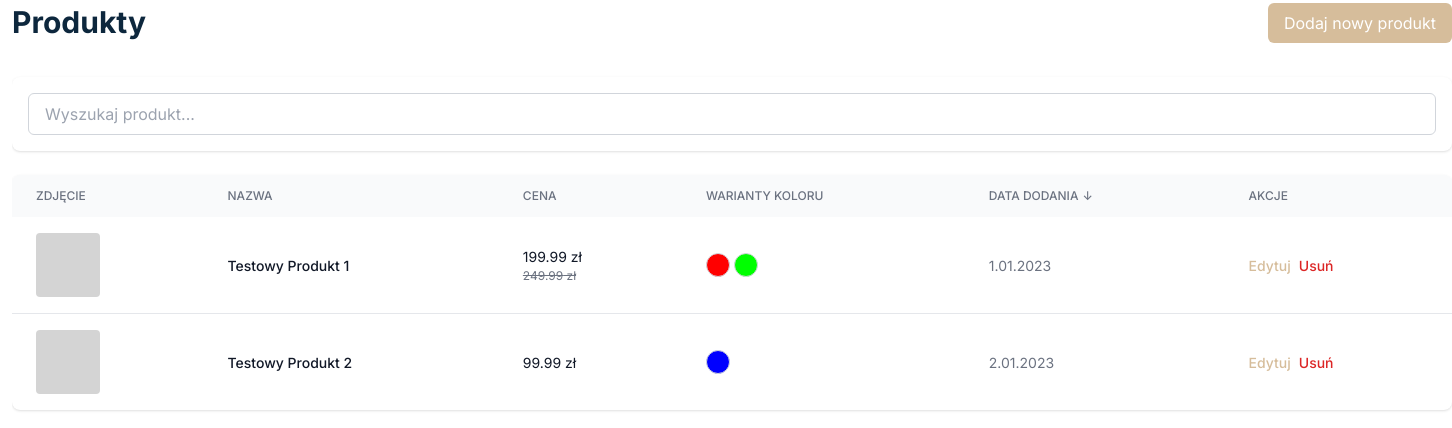
Test case: ProductsPage Component › filtruje produkty na podstawie wyszukiwania
The image size is (1452, 428).
Check: the text "Testowy Produkt 1" is shown, box [228,256,349,274]
Note: Wprowadzamy tekst do pola wyszukiwania
Step 1. Type "Produkt 1" into the field with placeholder "Wyszukaj produkt..." → (732, 114), box [28,93,1436,135]
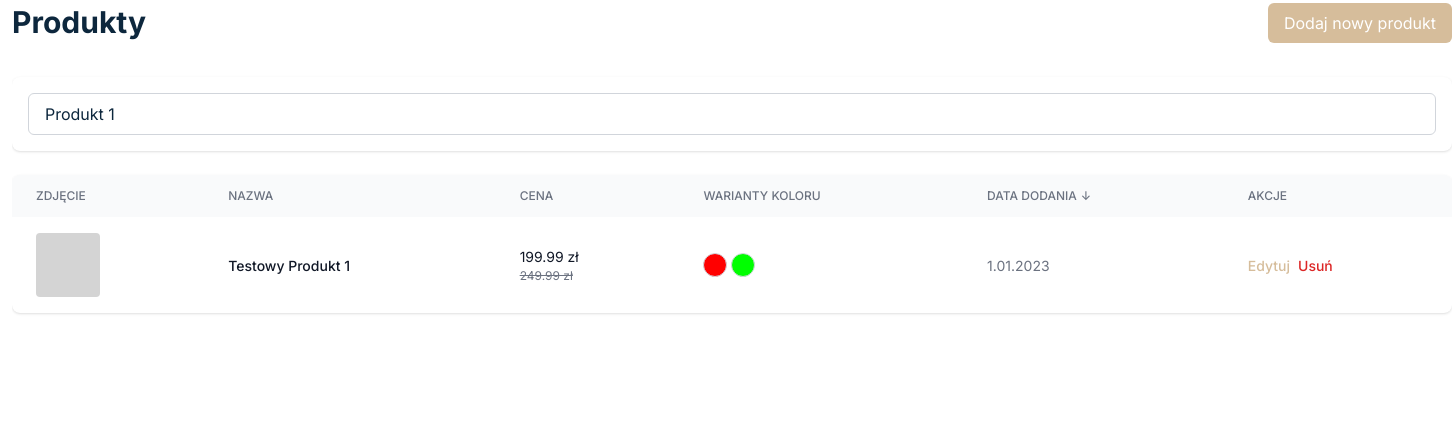
Check: the text "Testowy Produkt 1" is shown, box [228,256,350,274]
Check: the text "Testowy Produkt 2" is gone
